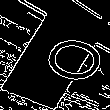O_NW: (14, 25, 96, 85)
